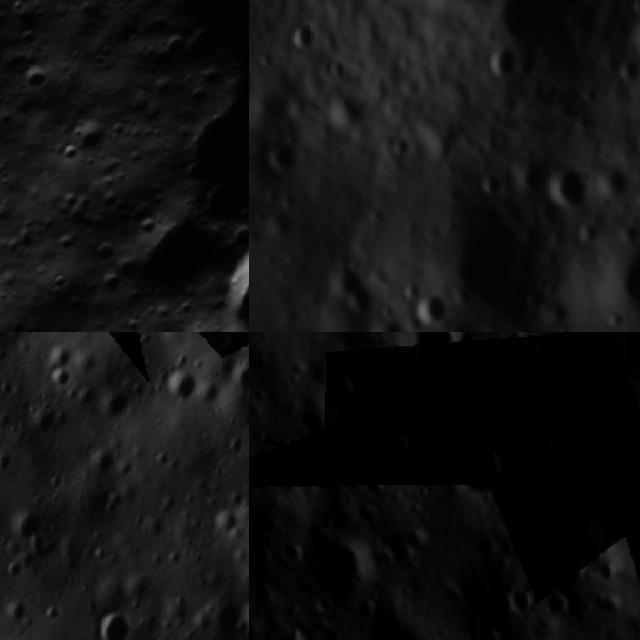crater: (429, 195, 568, 332), (104, 190, 238, 324), (191, 213, 249, 332), (301, 532, 386, 602), (485, 0, 596, 53), (327, 249, 385, 328), (1, 50, 63, 112), (603, 230, 640, 317), (549, 156, 598, 212), (510, 147, 560, 201), (409, 280, 454, 332), (412, 332, 478, 365), (456, 452, 508, 493), (482, 40, 527, 86), (598, 160, 637, 206), (252, 439, 286, 484), (282, 16, 320, 53), (325, 376, 362, 414), (163, 369, 200, 406), (12, 512, 48, 548), (86, 445, 122, 479), (100, 390, 132, 425), (249, 45, 265, 114), (96, 611, 133, 640), (618, 599, 640, 640), (4, 596, 31, 627), (46, 345, 74, 373), (615, 56, 640, 87), (213, 507, 238, 536), (230, 360, 249, 397), (627, 7, 640, 61), (48, 368, 76, 390), (192, 610, 214, 637), (0, 447, 16, 476), (44, 603, 61, 624)
